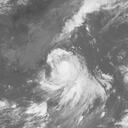cyclone: (45, 49, 79, 89)
